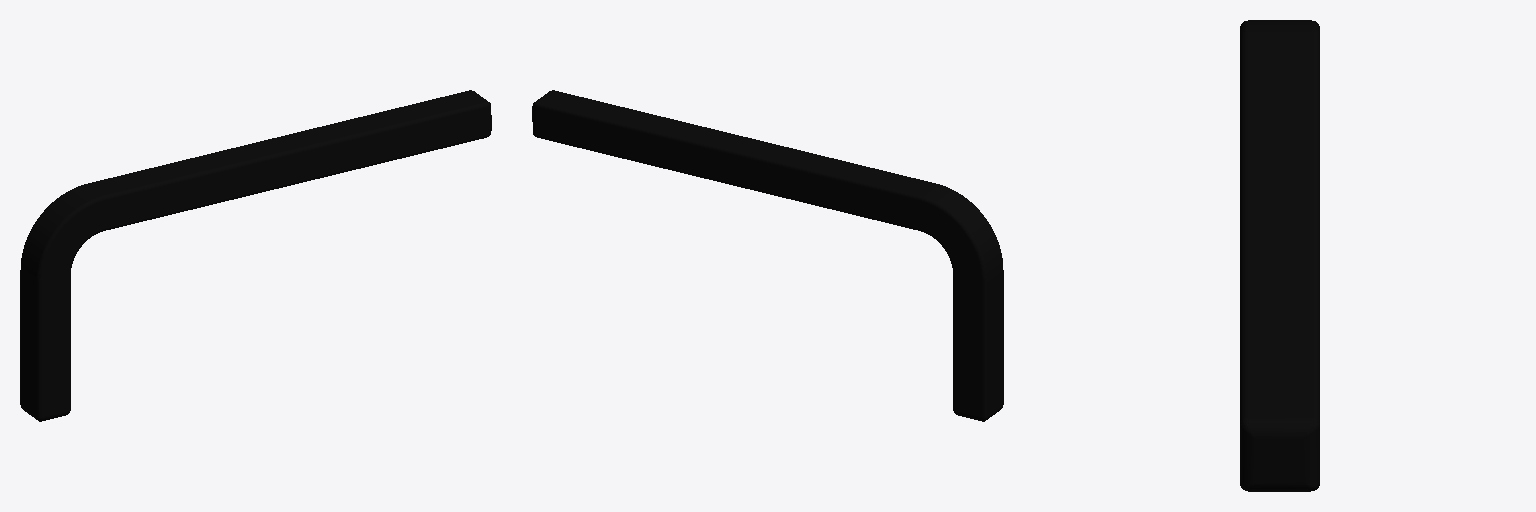
robot.urdf — cb_ak_key_i30:
<?xml version="1.0"?>
<!-- ContactBench kit part (official sim assets). Generated by FoundationTouch tools/contactbench/allenkey_tasks.py -->
<robot name="cb_ak_key_i30">
  <material name="c"><color rgba="0.08 0.08 0.08 1.0"/></material>
  <link name="object">
    <visual><origin xyz="0 0 0" rpy="0 0 0"/><geometry><mesh filename="ak_key_i30.obj" scale="1 1 1"/></geometry><material name="c"/></visual>
    <collision><origin xyz="0 0 0" rpy="0 0 0"/><geometry><mesh filename="coll_00.obj" scale="1 1 1"/></geometry></collision>
    <collision><origin xyz="0 0 0" rpy="0 0 0"/><geometry><mesh filename="coll_01.obj" scale="1 1 1"/></geometry></collision>
    <inertial><mass value="0.002733"/><origin xyz="0.000000 0.000000 0.000000" rpy="0 0 0"/><inertia ixx="5.109280e-06" ixy="-1.702821e-13" ixz="-8.172972e-06" iyy="4.288647e-05" iyz="-2.041727e-13" izz="3.811275e-05"/></inertial>
  </link>
</robot>

--- Facts derived from the render (not from the file) ---
The picture shows the robot from 3 angles, left to right: view 1: azimuth 30°, elevation 25°; view 2: azimuth 150°, elevation 25°; view 3: azimuth 270°, elevation 25°; orthographic projection.
Robot: cb_ak_key_i30 — 1 links, 0 joints (none); root link object; default pose: every joint at zero.
Visible links, largest first — view 1: object; view 2: object; view 3: object.
Boxes of the visible links, bbox=[...] form: object: bbox=[20, 90, 491, 421]; object: bbox=[532, 90, 1003, 421]; object: bbox=[1240, 20, 1319, 491].
Size in the robot's own frame: 0.0675 by 0.005 by 0.03 metres.
1 mesh visuals loaded from 1 distinct referenced files (1 OBJ).
